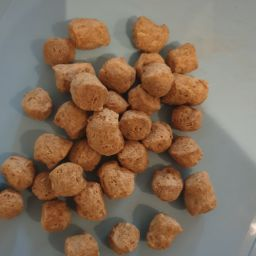Glycine max(soyabean): (4, 7, 242, 215), (148, 199, 186, 251), (57, 221, 107, 256), (110, 209, 142, 256), (39, 199, 77, 236)
